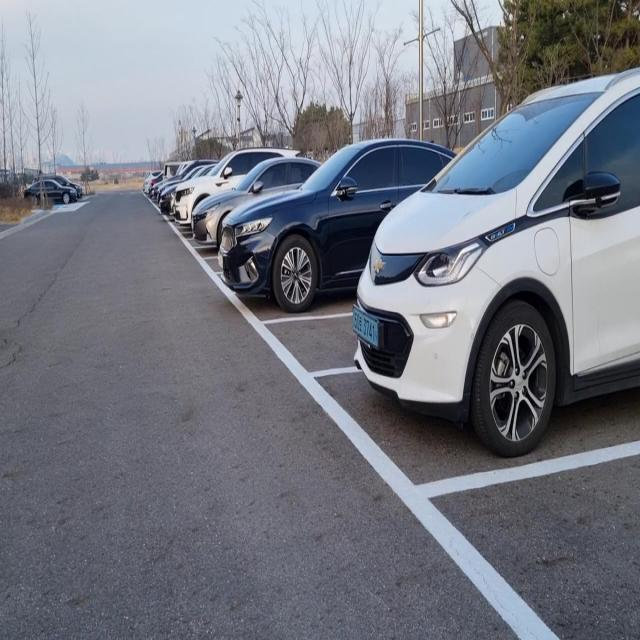Car: (320, 104, 632, 491), (214, 166, 369, 320)
Vacant: (246, 255, 348, 388)
